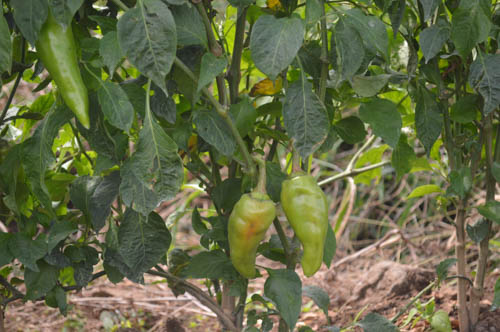ChiliPepper: (39, 25, 88, 129), (281, 177, 329, 276), (229, 196, 277, 281)
